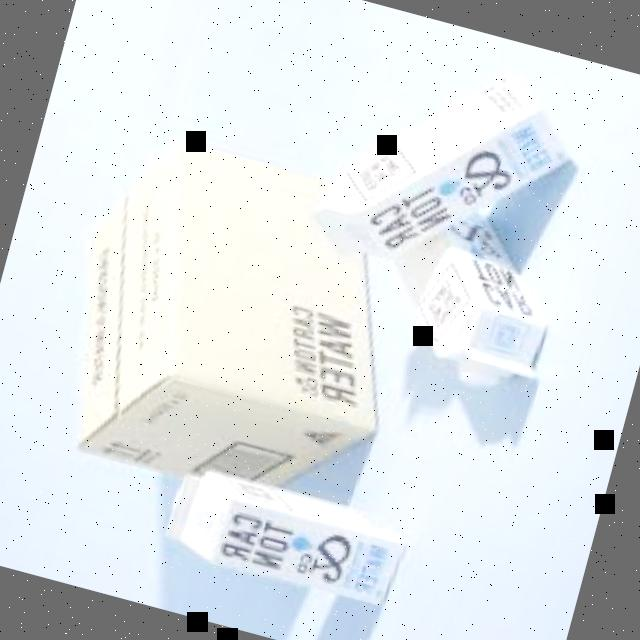cardboard_box: (22, 110, 436, 535), (309, 40, 592, 312), (362, 182, 574, 412), (162, 458, 409, 610)
